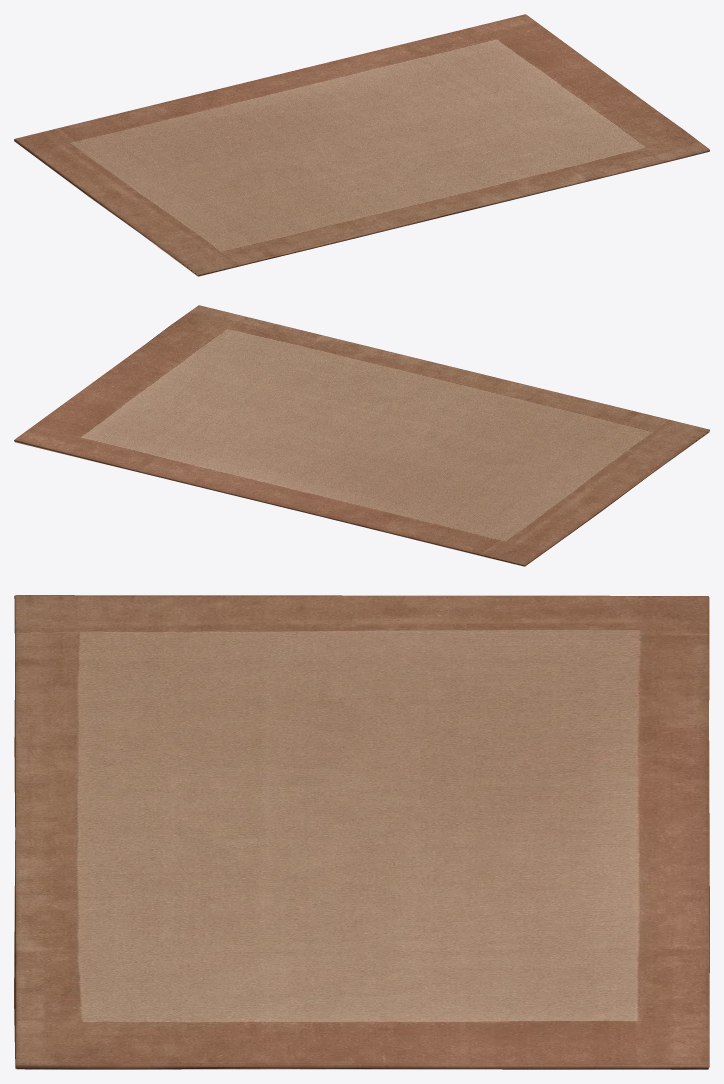
File: abo-B0732QTV8S.glb
3 views of the same model, one above another, from view 1: azimuth 30°, elevation 25°; view 2: azimuth 150°, elevation 25°; view 3: azimuth 270°, elevation 25° (orthographic). The views are drawn at different scales.
Visible parts, largest first — view 1: RootNode; view 2: RootNode; view 3: RootNode.
Boxes of the visible parts, x1,y1,x2,y2 form: RootNode: (14,14,709,276); RootNode: (14,305,709,566); RootNode: (14,595,709,1069).
Bounding box in the file's own units: 2.44 × 0.0131 × 1.52.
Materials: 1 (1 with a texture image).
